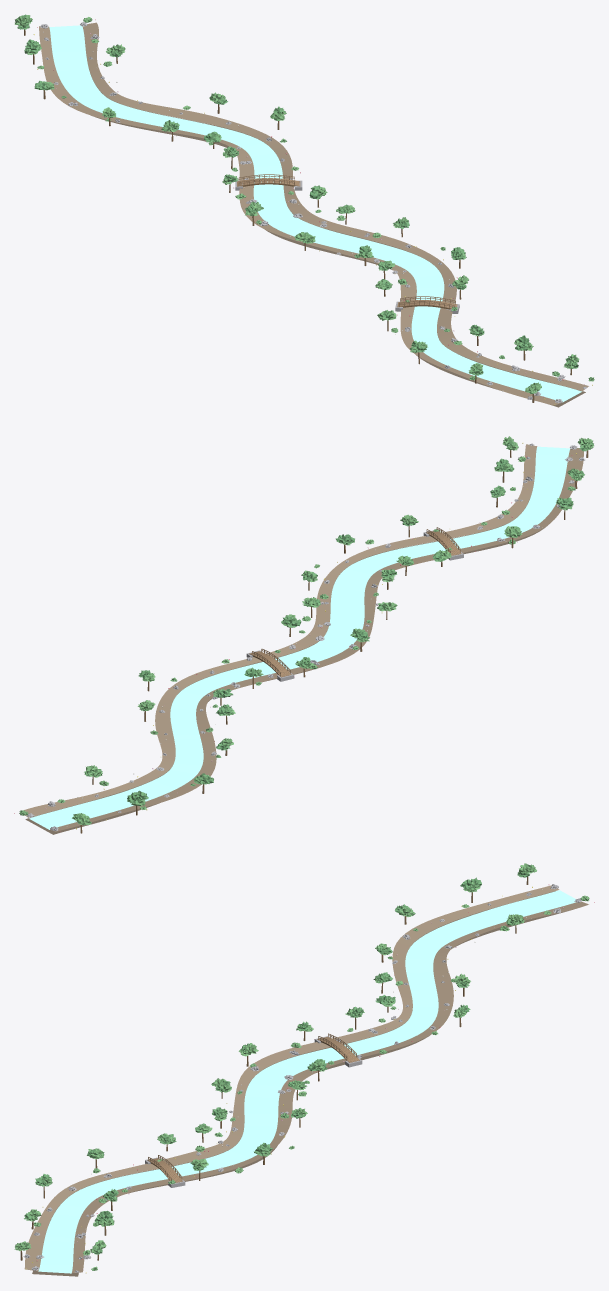
Rendered from sungai-blender-v3.glb.
3 renders of one model, top to bottom at view 1: azimuth 30°, elevation 25°; view 2: azimuth 150°, elevation 25°; view 3: azimuth 330°, elevation 25°, orthographic.
Parts seen in each view (by area): view 1: sungai_water, sungai_bank_left, sungai_bank_right, sungai_tree_leaves, sungai_bed, sungai_rocks, sungai_bushes, sungai_tree_trunks, sungai_bridge_1_wood; view 2: sungai_water, sungai_bank_left, sungai_bank_right, sungai_tree_leaves, sungai_rocks, sungai_bed, sungai_bushes, sungai_tree_trunks; view 3: sungai_water, sungai_bank_right, sungai_bank_left, sungai_tree_leaves, sungai_bed, sungai_rocks, sungai_bushes, sungai_tree_trunks.
Boxes of the visible parts, left/top/right/bottom form: sungai_water: left=49, top=25, right=581, bottom=402; sungai_bank_left: left=83, top=22, right=588, bottom=391; sungai_bank_right: left=39, top=26, right=559, bottom=405; sungai_tree_leaves: left=14, top=14, right=579, bottom=393; sungai_bed: left=88, top=68, right=585, bottom=407; sungai_rocks: left=40, top=22, right=586, bottom=403; sungai_bushes: left=37, top=17, right=594, bottom=381; sungai_tree_trunks: left=24, top=29, right=571, bottom=402; sungai_bridge_1_wood: left=237, top=174, right=300, bottom=186; sungai_water: left=29, top=446, right=569, bottom=829; sungai_bank_left: left=24, top=444, right=537, bottom=818; sungai_bank_right: left=50, top=448, right=583, bottom=831; sungai_tree_leaves: left=72, top=436, right=594, bottom=825; sungai_rocks: left=26, top=443, right=585, bottom=830; sungai_bed: left=25, top=487, right=547, bottom=834; sungai_bushes: left=19, top=441, right=575, bottom=815; sungai_tree_trunks: left=80, top=450, right=588, bottom=833; sungai_water: left=38, top=890, right=575, bottom=1273; sungai_bank_right: left=24, top=885, right=559, bottom=1271; sungai_bank_left: left=72, top=902, right=588, bottom=1272; sungai_tree_leaves: left=14, top=863, right=536, bottom=1254; sungai_bed: left=32, top=891, right=572, bottom=1276; sungai_rocks: left=23, top=884, right=581, bottom=1272; sungai_bushes: left=33, top=895, right=589, bottom=1270; sungai_tree_trunks: left=20, top=877, right=528, bottom=1260.
Bounding box in the file's own units: 44.28 × 7.2 × 245.
